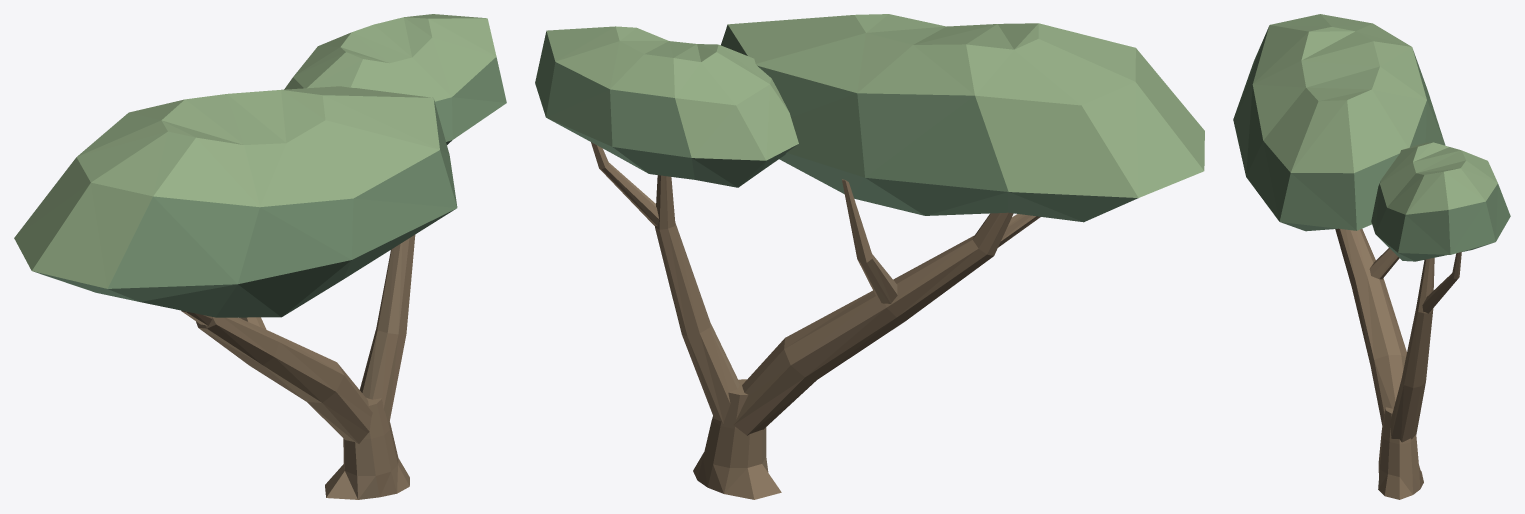
3 renders of one model, left to right at view 1: azimuth 30°, elevation 25°; view 2: azimuth 150°, elevation 25°; view 3: azimuth 270°, elevation 25°, orthographic. The views are drawn at different scales.
Parts seen in each view (by area): view 1: nature-lowfork-river-tree-01; view 2: nature-lowfork-river-tree-01; view 3: nature-lowfork-river-tree-01.
Part boxes in pixels (box(x1,y1,x2,y2)): nature-lowfork-river-tree-01: box(14, 14, 506, 499); nature-lowfork-river-tree-01: box(535, 14, 1204, 499); nature-lowfork-river-tree-01: box(1233, 14, 1510, 499).
Bounding box in the file's own units: 4.57 × 3.58 × 2.48.
